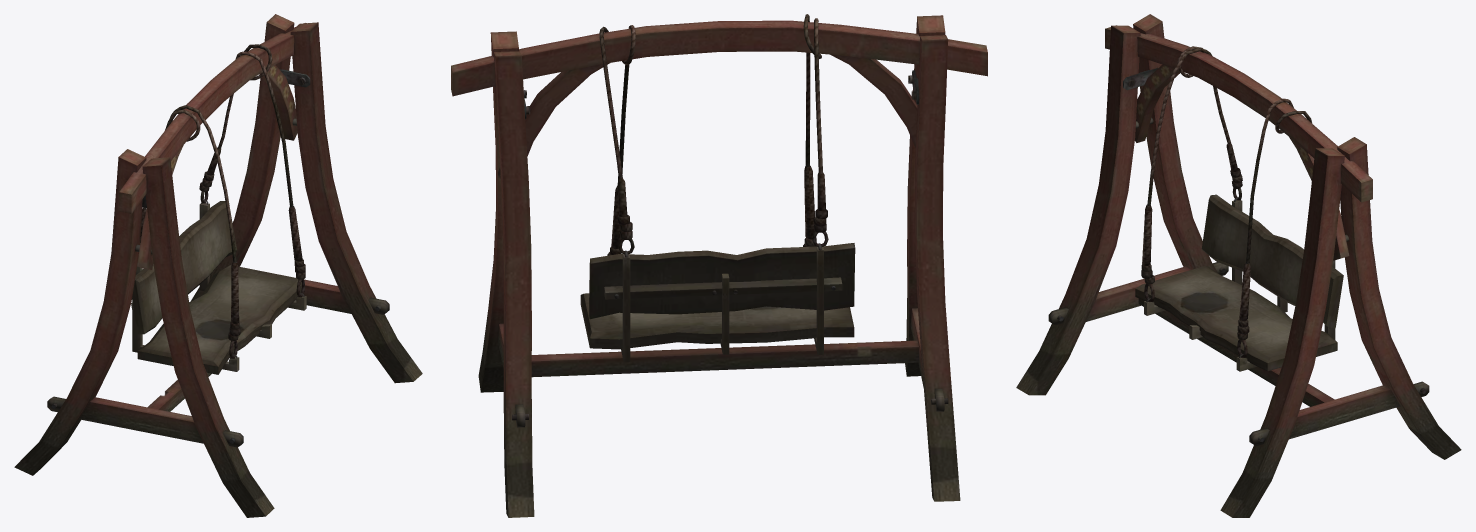
File: prop_bench.glb
3 renders of one model, left to right at view 1: azimuth 30°, elevation 25°; view 2: azimuth 150°, elevation 25°; view 3: azimuth 270°, elevation 25°, orthographic. The views are drawn at different scales.
Visible parts, largest first — view 1: prop_bench; view 2: prop_bench; view 3: prop_bench.
Boxes of the visible parts, x1=… form: prop_bench: x1=14, y1=14, x2=422, y2=517; prop_bench: x1=451, y1=14, x2=987, y2=517; prop_bench: x1=1016, y1=14, x2=1461, y2=517.
Size of the model in its own units: 1.95 by 1.61 by 1.85.
Materials: 1 (1 with a texture image).
